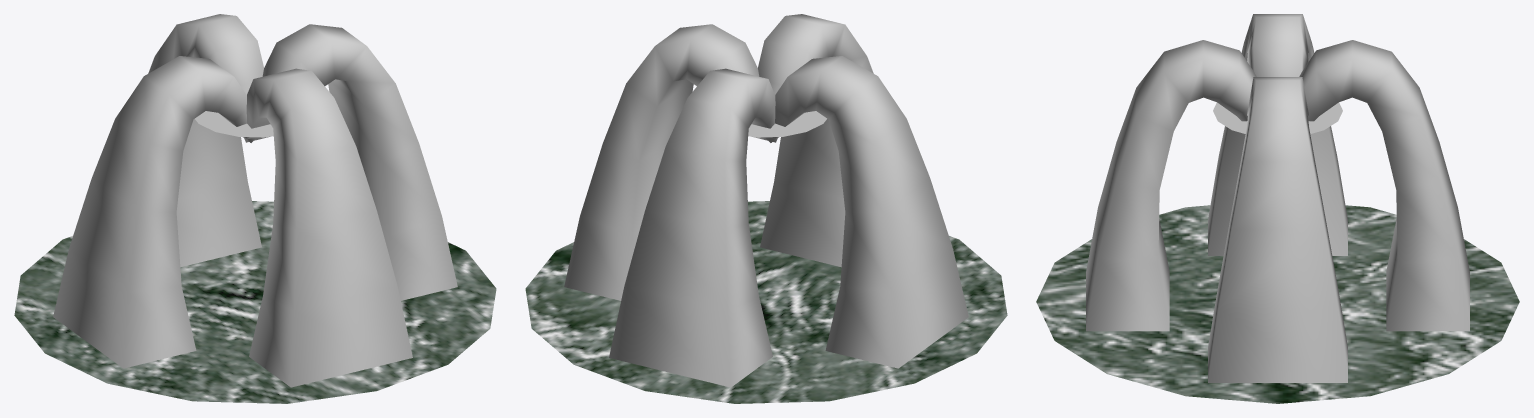
Rendered from si_fountain_00_water.fbx.
3 renders of one model, left to right at view 1: azimuth 30°, elevation 25°; view 2: azimuth 150°, elevation 25°; view 3: azimuth 270°, elevation 25°, orthographic.
Visible parts, largest first — view 1: si_fountain_00_water; view 2: si_fountain_00_water; view 3: si_fountain_00_water.
Boxes of the visible parts, box(x1,y1,x2,y2) form: si_fountain_00_water: box(14, 14, 496, 403); si_fountain_00_water: box(525, 14, 1007, 403); si_fountain_00_water: box(1036, 14, 1519, 403).
Size of the model in its own units: 13 by 7.91 by 13.
